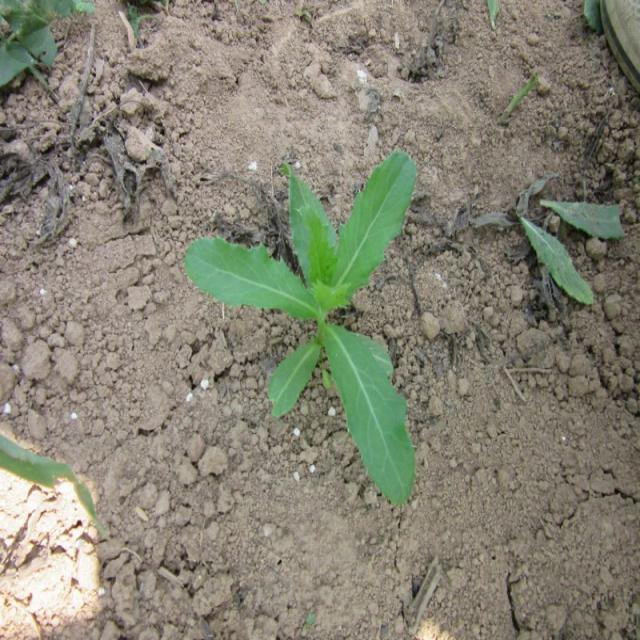cs: (179, 143, 421, 513)
